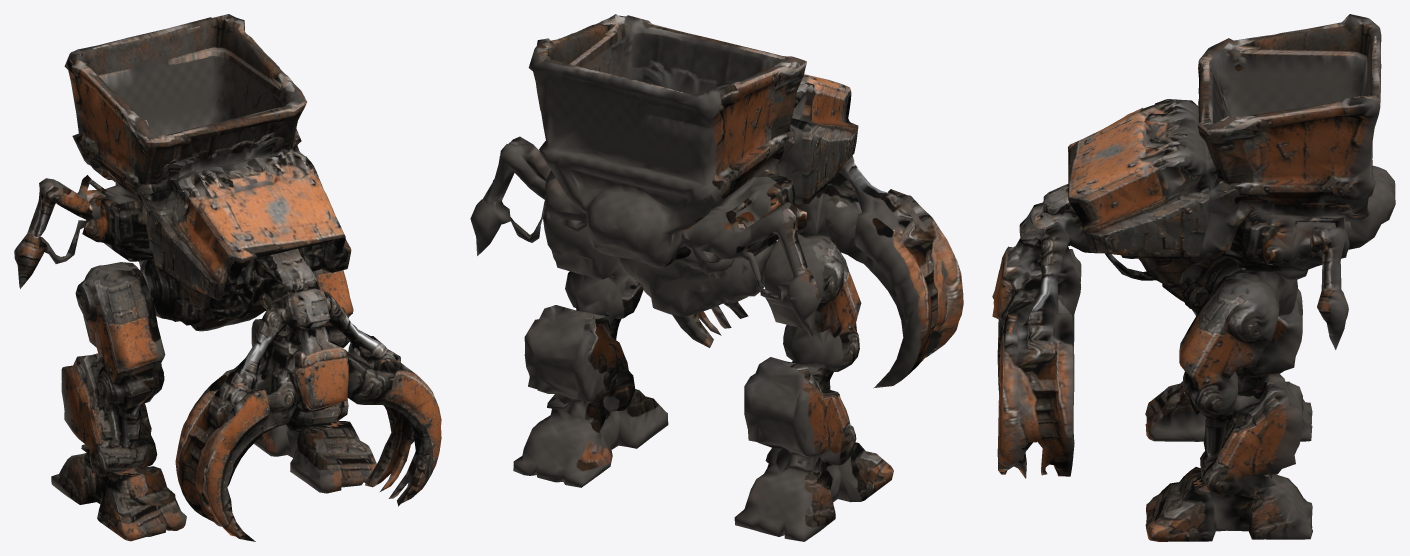
Rendered from scrapjaw_lod0.glb.
3 views of the same model, side by side, from view 1: azimuth 30°, elevation 25°; view 2: azimuth 150°, elevation 25°; view 3: azimuth 270°, elevation 25° (orthographic). The views are drawn at different scales.
Parts seen in each view (by area): view 1: geometry_0; view 2: geometry_0; view 3: geometry_0.
Part boxes in pixels (bbox=[...]): geometry_0: bbox=[14, 14, 441, 541]; geometry_0: bbox=[470, 14, 963, 541]; geometry_0: bbox=[992, 14, 1395, 541].
Bounding box in the file's own units: 1.57 × 2 × 1.74.
Materials: 1 (1 with a texture image).
